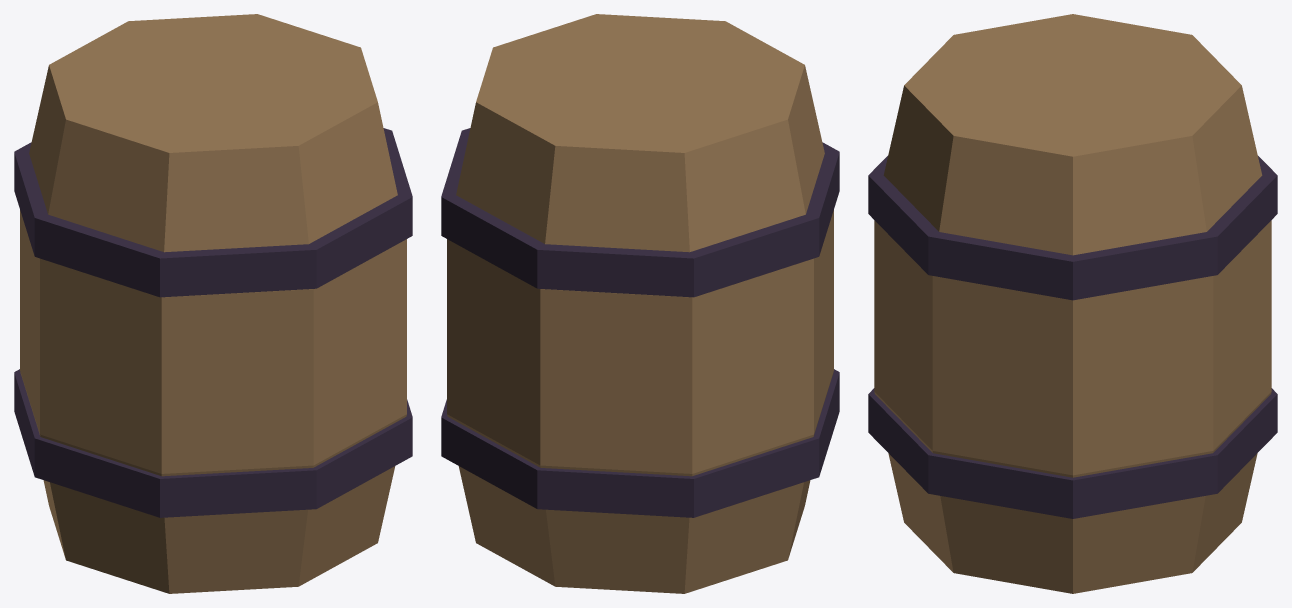
File: barrel.glb
3 views of the same model, side by side, from view 1: azimuth 30°, elevation 25°; view 2: azimuth 150°, elevation 25°; view 3: azimuth 270°, elevation 25° (orthographic).
Visible parts, largest first — view 1: wildwest-barrel; view 2: wildwest-barrel; view 3: wildwest-barrel.
Boxes of the visible parts, <box> form: wildwest-barrel: <box>14,14,412,593</box>; wildwest-barrel: <box>441,14,839,593</box>; wildwest-barrel: <box>868,14,1277,593</box>.
Bounding box in the file's own units: 0.2884 × 0.34 × 0.2884.
